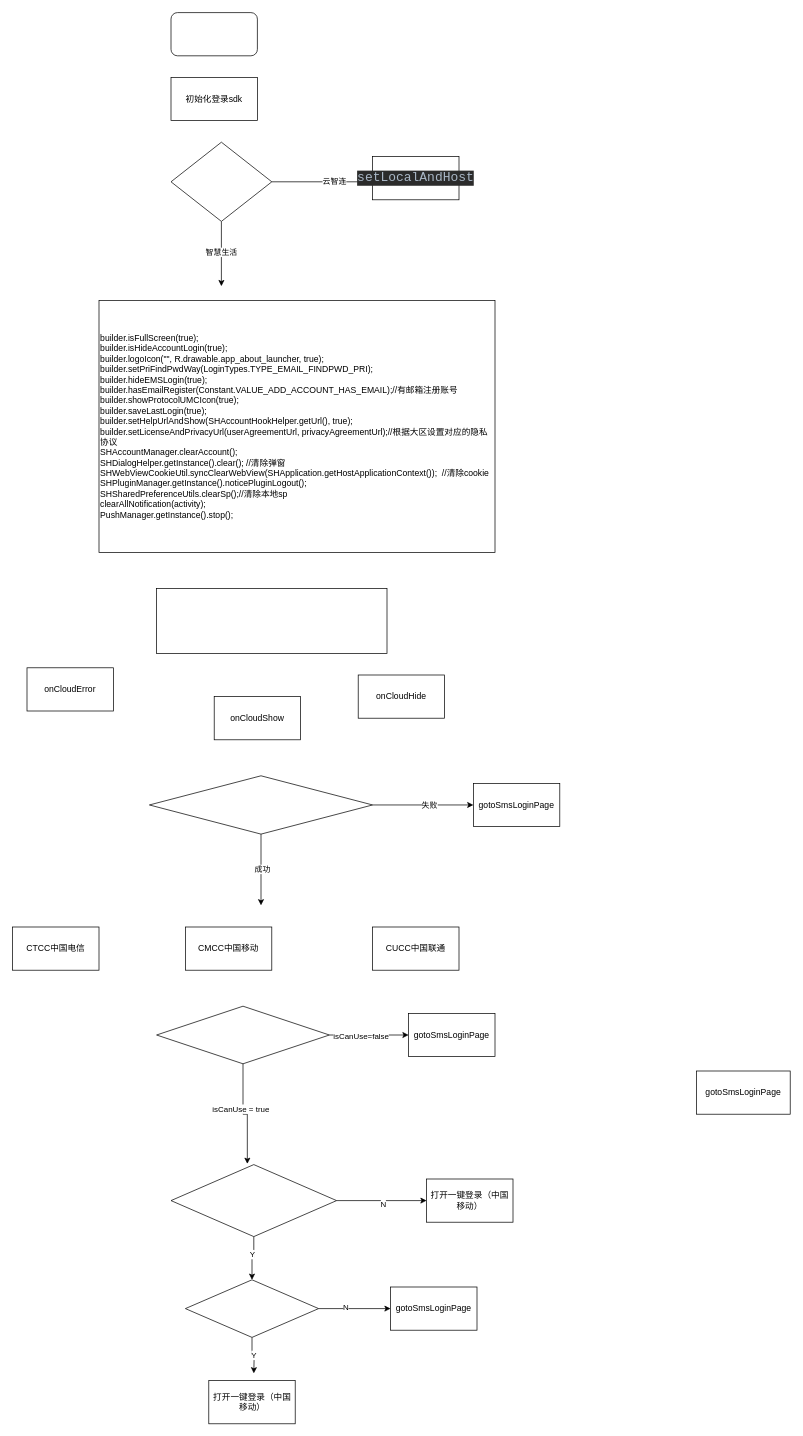
The diagram is 803 pixels wide and 1436 high, and some of its shapes have lost their labels. Here are the shapes that lost their labels. From the top down, the box of each, then its label:
(170, 12, 257, 56): 打开App
(170, 141, 272, 221): 智慧生活/云智连
(156, 588, 387, 653): 检查是否支持一键登录 QucQuickCloudCheck.cloudCheck
(149, 775, 373, 834): CmCheckTools.getMobileNetworkType 检查手机运营商
(156, 1005, 329, 1064): CmCheckTools.doCmNetworkType
(170, 1164, 337, 1237): 上次是否成功登录 SHAddAccountsUtils.isLastLoginSuccess
(185, 1279, 319, 1337): 上次是否是移动登录
